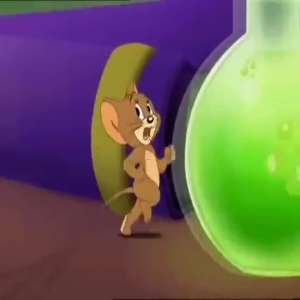Jerry: (95, 82, 167, 151)
